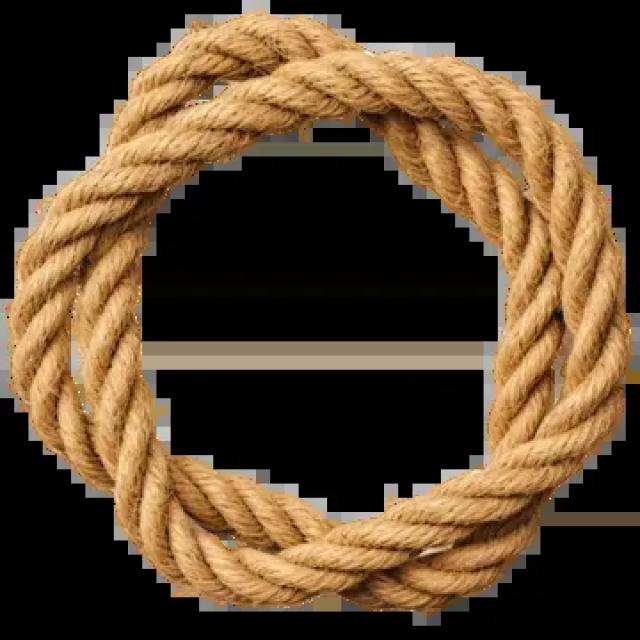Rope: (12, 15, 635, 622)
